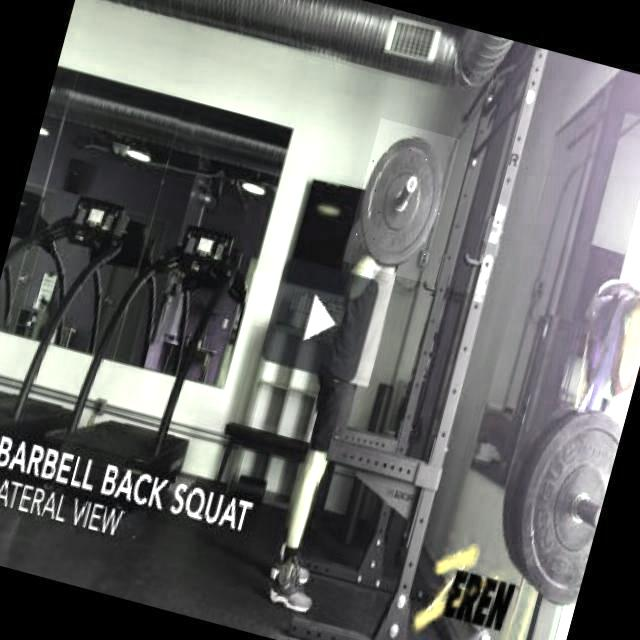barbell: (344, 118, 460, 282)
